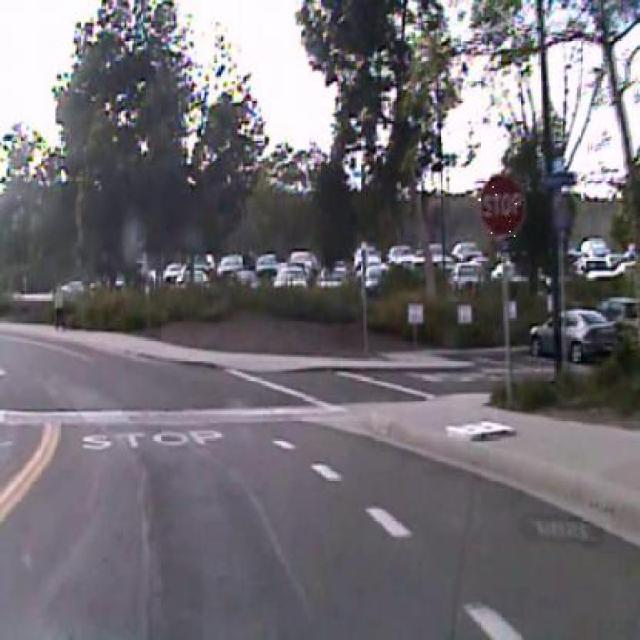stop: (478, 172, 524, 239)
